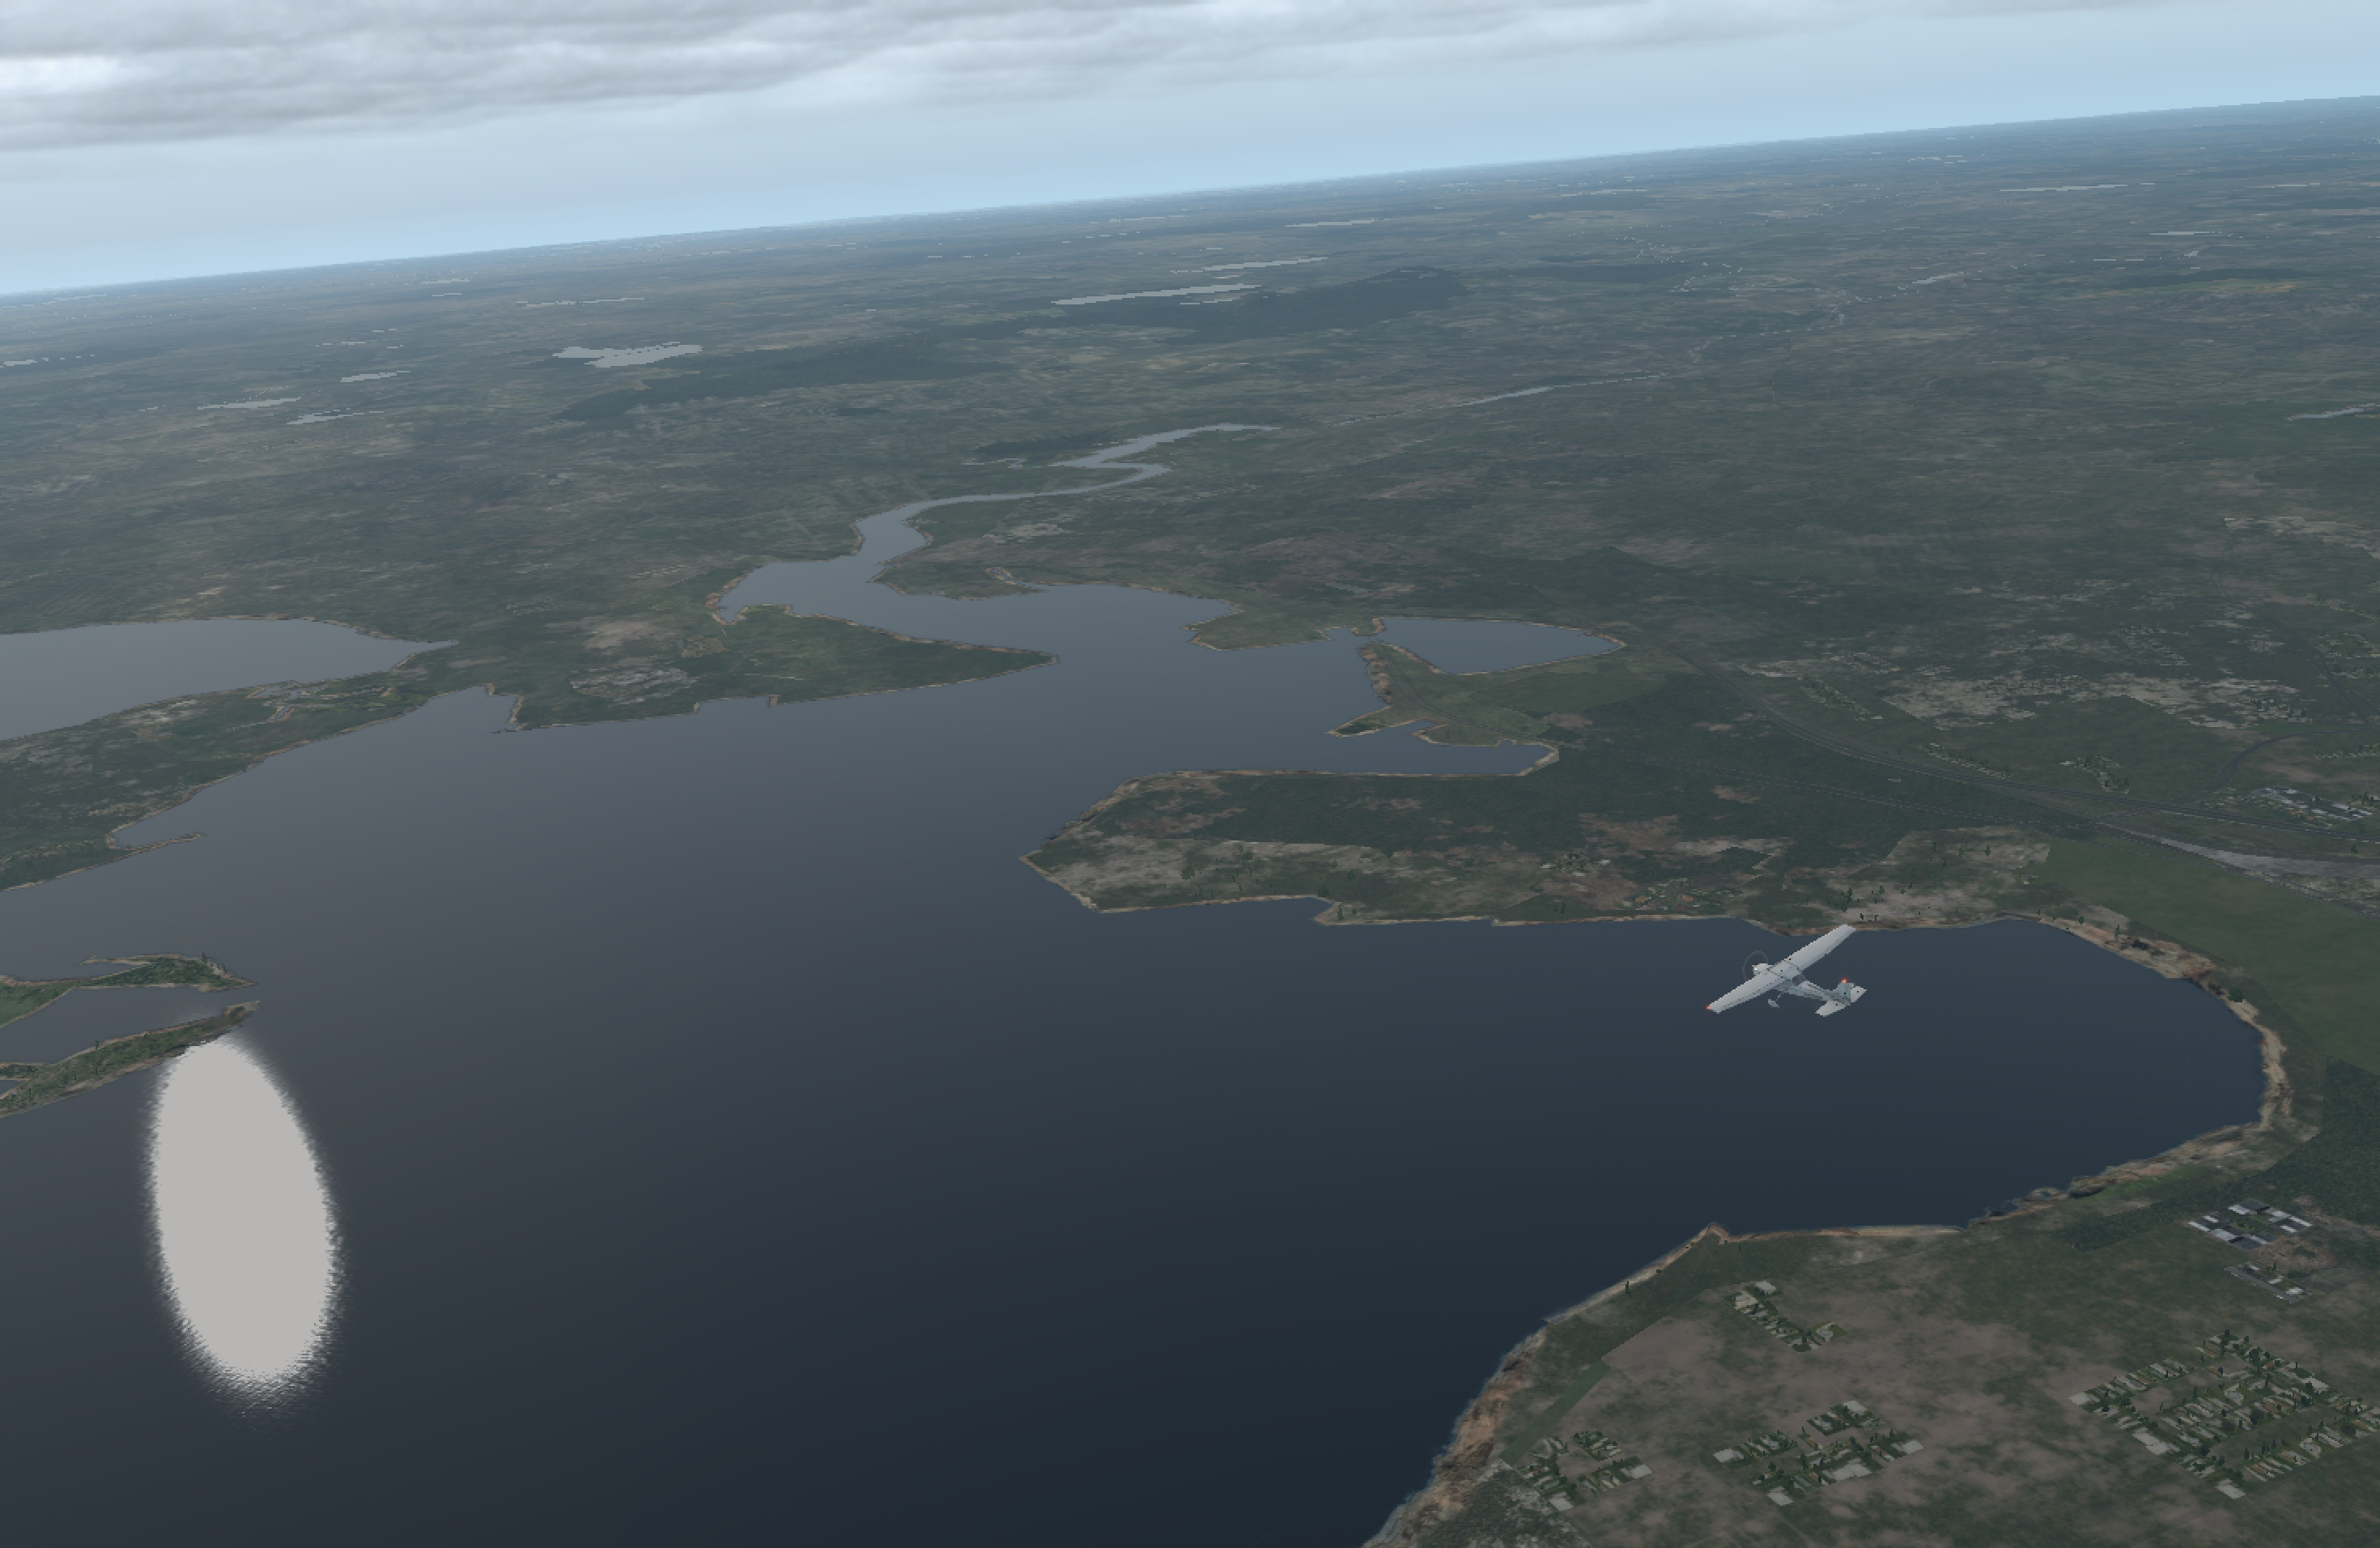aircraft: (1716, 953, 1846, 1001)
